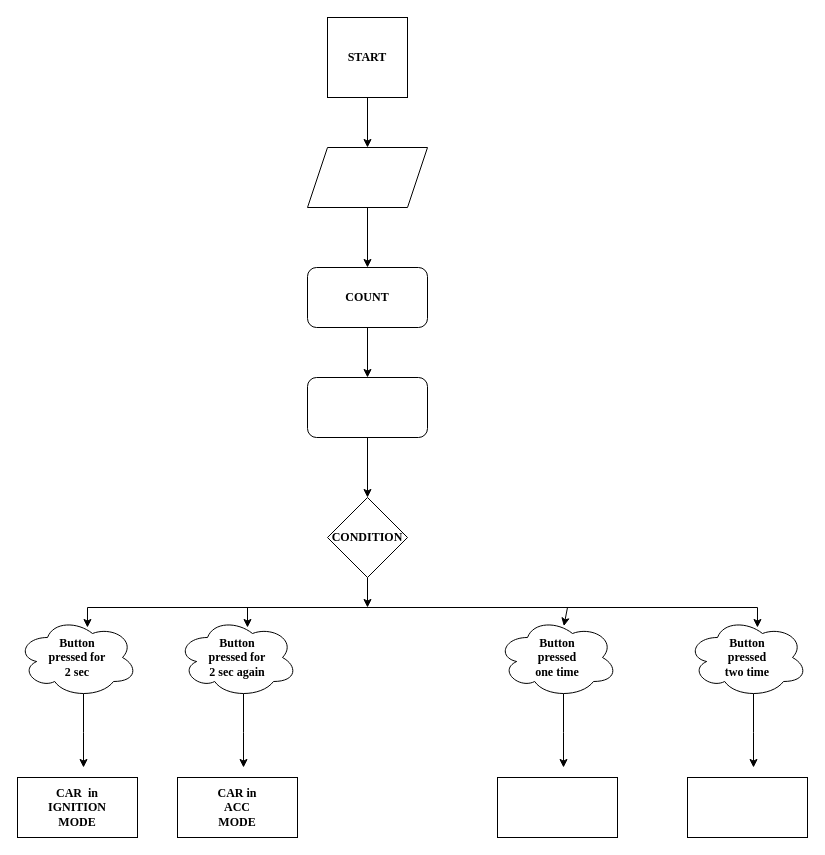
Some shapes in this 825 by 855 pixel diagram are drawn without their labels. Here are the shapes that lost their labels. From the top down, the box of each, then its label:
(306, 146, 428, 208): USER BUTTON
(306, 376, 428, 438): ENCRYPTION
(496, 776, 618, 838): Wiper system on
(686, 776, 808, 838): Wiper system off
